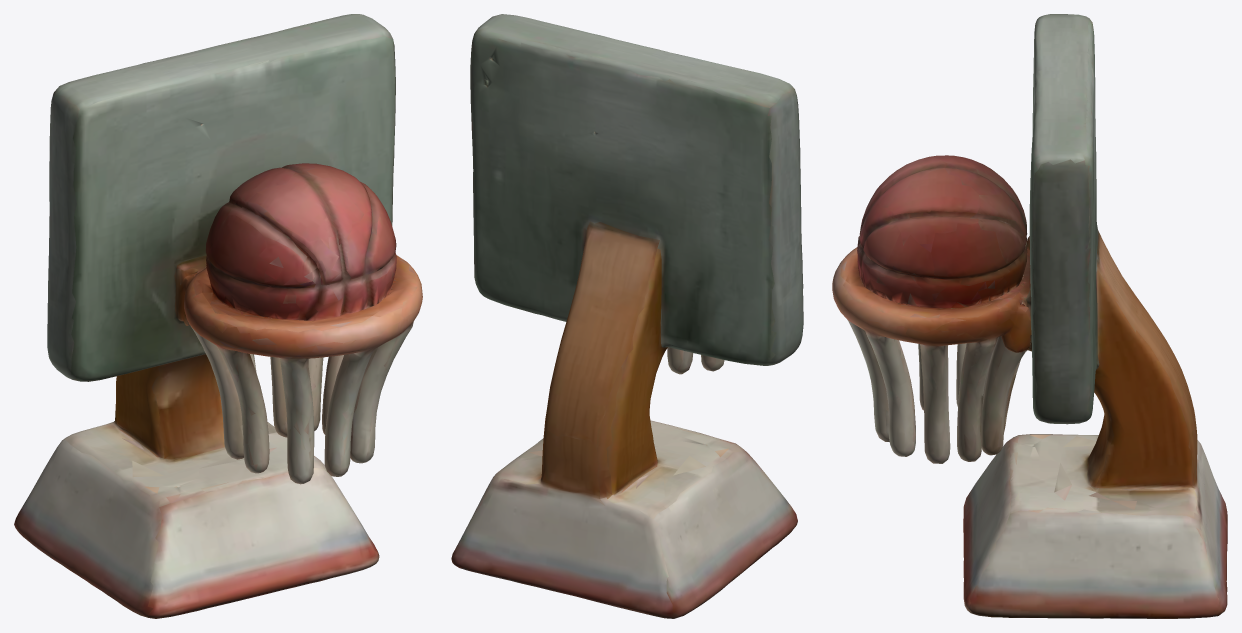
The model's file is sc-hoop-bank.glb.
3 views of the same model, side by side, from view 1: azimuth 30°, elevation 25°; view 2: azimuth 150°, elevation 25°; view 3: azimuth 270°, elevation 25° (orthographic). The views are drawn at different scales.
Visible parts, largest first — view 1: geometry_0; view 2: geometry_0; view 3: geometry_0.
Boxes of the visible parts, x1,y1,x2,y2 form: geometry_0: (14,14,422,618); geometry_0: (451,14,803,618); geometry_0: (832,14,1227,618).
Size of the model in its own units: 0.6839 by 1 by 0.7447.
1 material, 1 textured.
